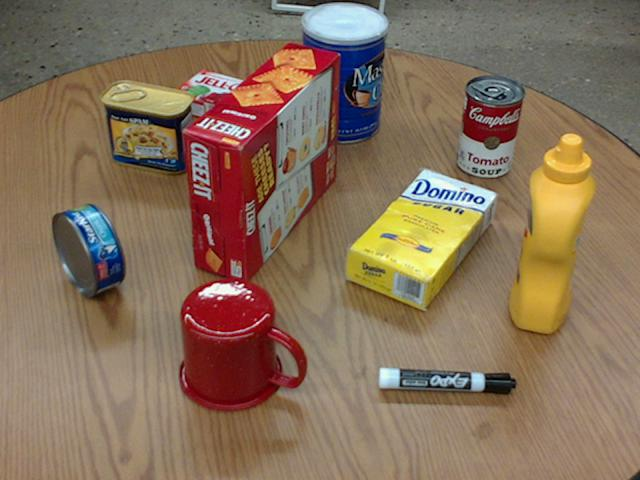cracker_box: (184, 42, 337, 282)
gelatin_box: (171, 68, 257, 123)
large_marker: (378, 368, 515, 393)
master_chef_can: (300, 2, 386, 142)
mug: (179, 277, 304, 410)
mustard_bottle: (510, 135, 594, 333)
potted_meat_can: (100, 79, 193, 171)
sugar_box: (345, 170, 496, 306)
tomato_soup_can: (456, 75, 524, 178)
tuna_fish_can: (52, 204, 126, 295)
